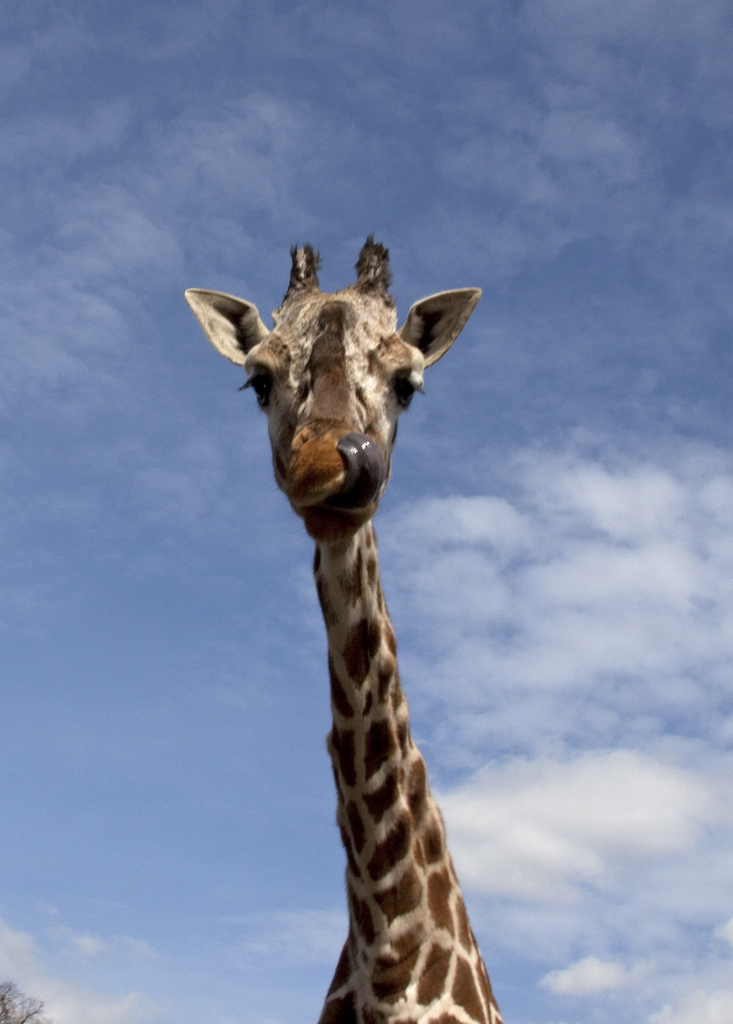giraffe: (172, 243, 552, 1000)
